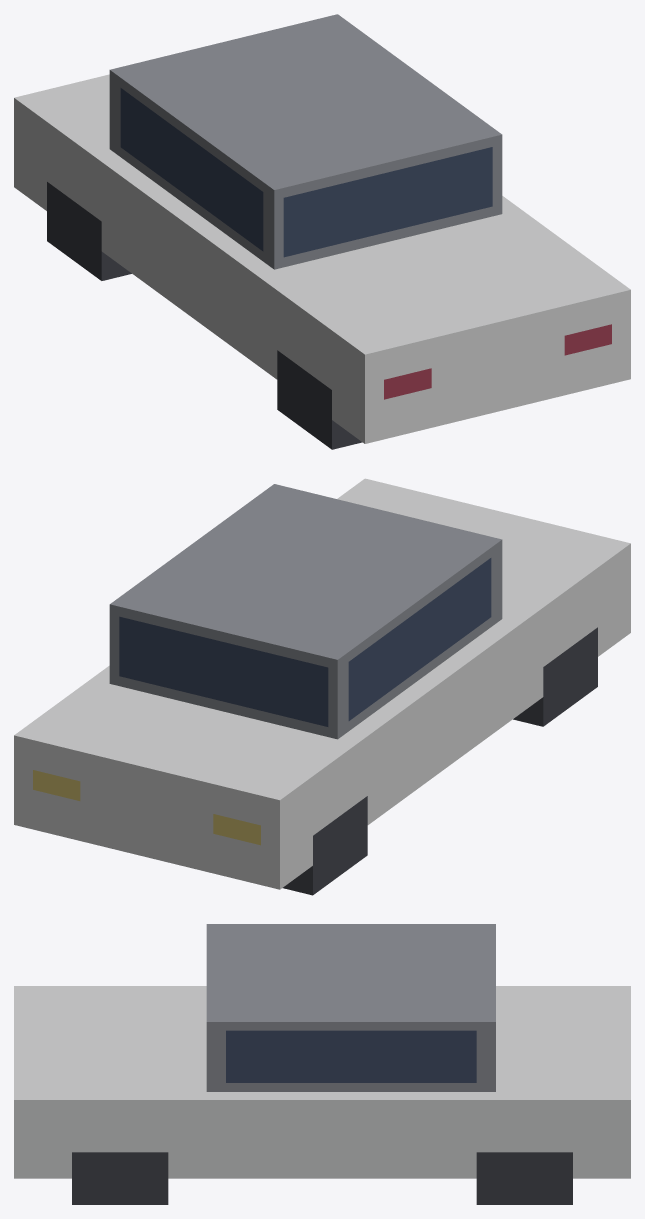
Rendered from voiture_blanche.glb.
The picture shows the model from 3 angles, top to bottom: view 1: azimuth 30°, elevation 25°; view 2: azimuth 150°, elevation 25°; view 3: azimuth 270°, elevation 25°; orthographic projection. The views are drawn at different scales.
Parts seen in each view (by area): view 1: main; view 2: main; view 3: main.
Part boxes in pixels (<box>): main: <box>14,14,630,449</box>; main: <box>14,478,630,895</box>; main: <box>14,924,630,1204</box>.
Bounding box in the file's own units: 1.75 × 1.25 × 4.
